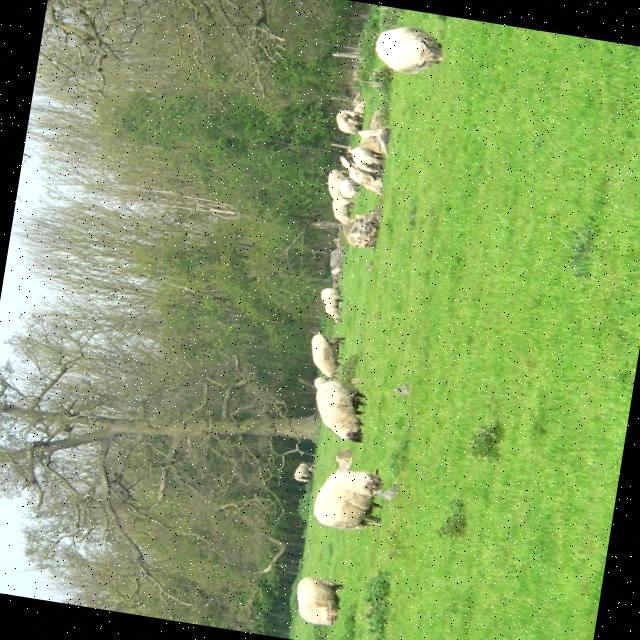sheep: (374, 26, 441, 73), (315, 380, 365, 441)
